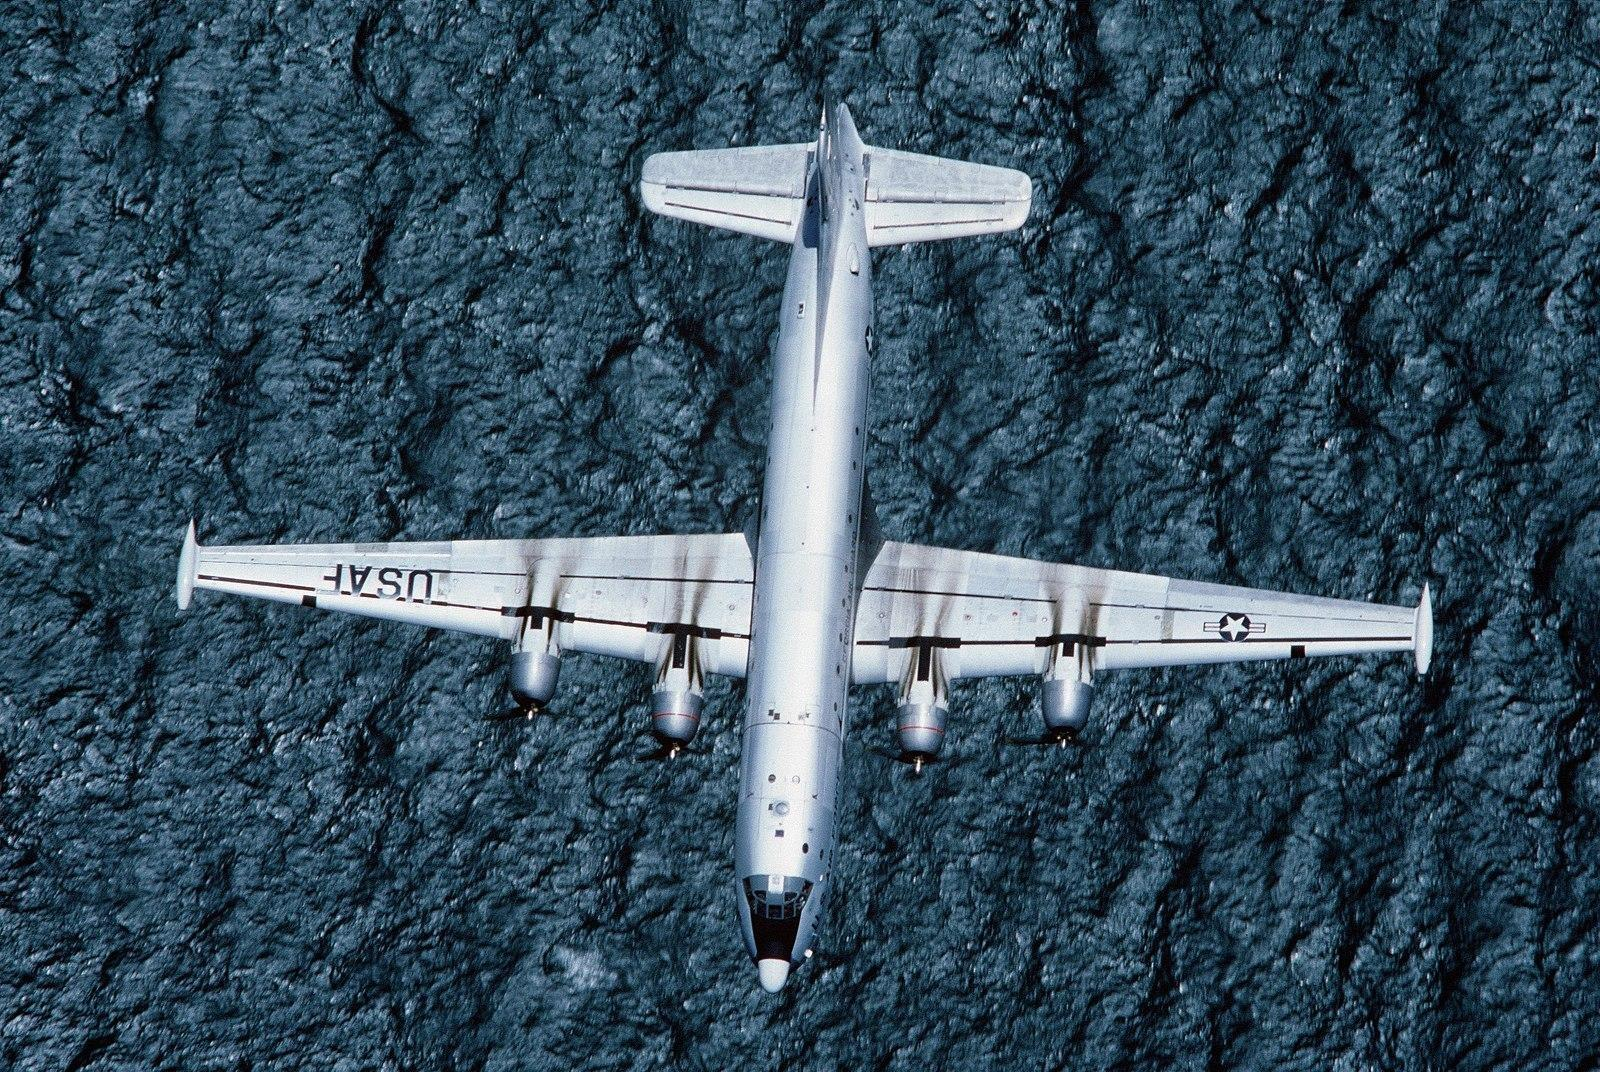Airplane: (166, 83, 1442, 1011)
